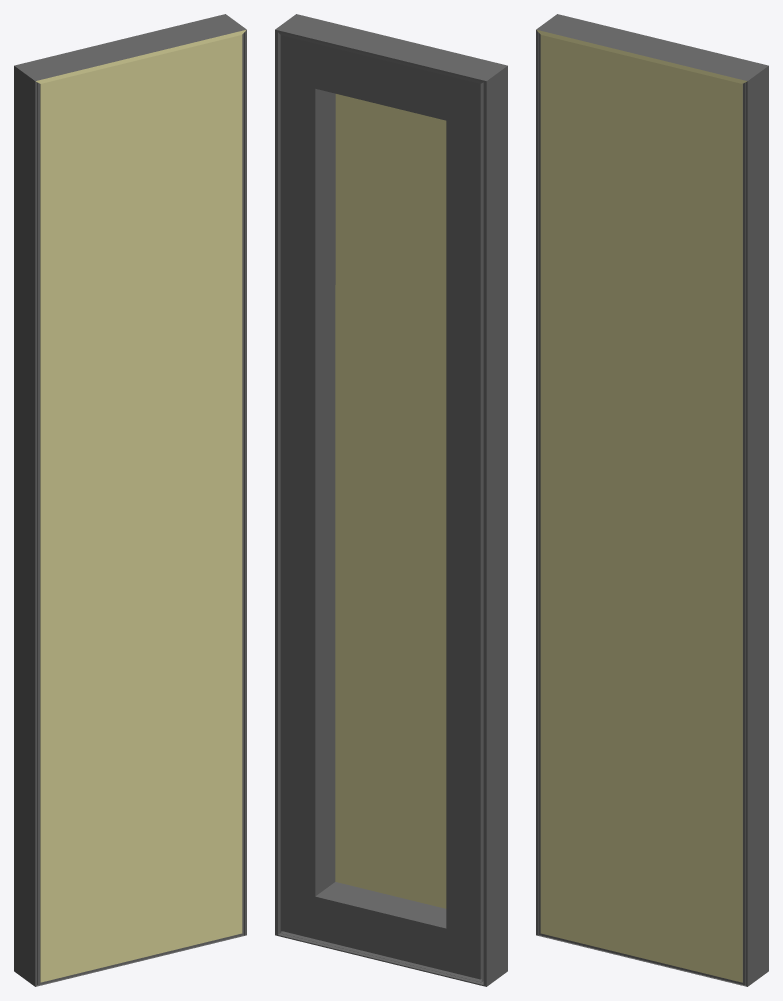
Rendered from Counter Connector.glb.
The picture shows the model from 3 angles, left to right: view 1: azimuth 30°, elevation 25°; view 2: azimuth 150°, elevation 25°; view 3: azimuth 330°, elevation 25°; orthographic projection.
Visible parts, largest first — view 1: Standard 19.012; view 2: Standard 19.012; view 3: Standard 19.012.
Boxes of the visible parts, <box> form: Standard 19.012: <box>14,14,246,986</box>; Standard 19.012: <box>275,14,507,986</box>; Standard 19.012: <box>536,14,768,986</box>.
Size of the model in its own units: 0.2339 by 0.9568 by 0.0413.
